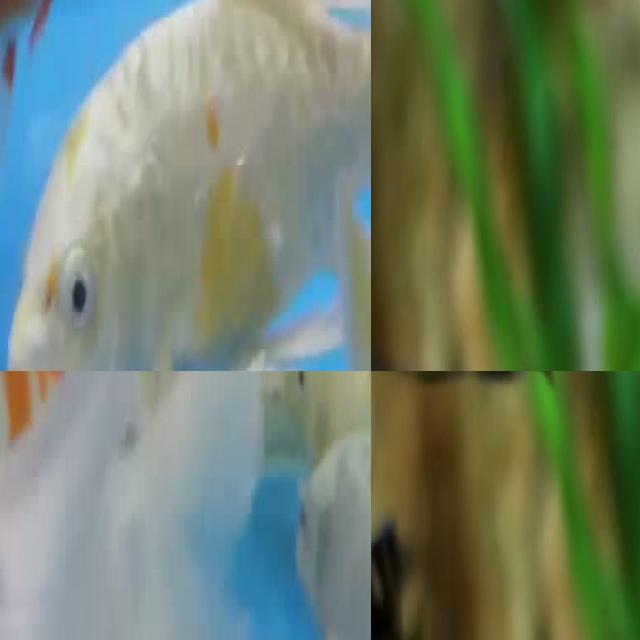fish: (0, 0, 371, 371), (281, 412, 371, 640), (371, 517, 432, 640)
